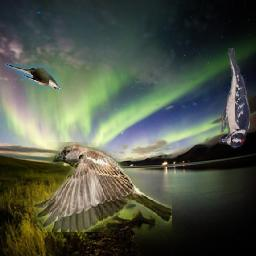Cuckoo: (5, 63, 61, 89)
Sparrow: (34, 142, 173, 232)
Woodpecker: (218, 49, 250, 150)
